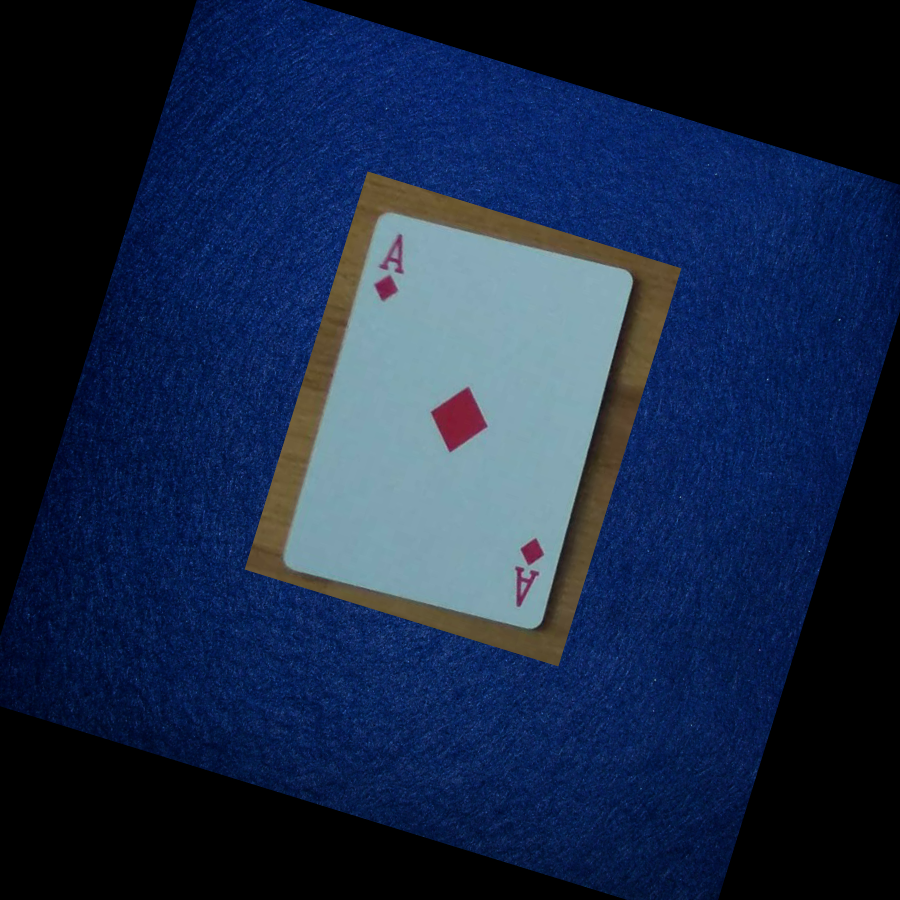1F: (484, 514, 566, 629), (355, 209, 428, 324)
